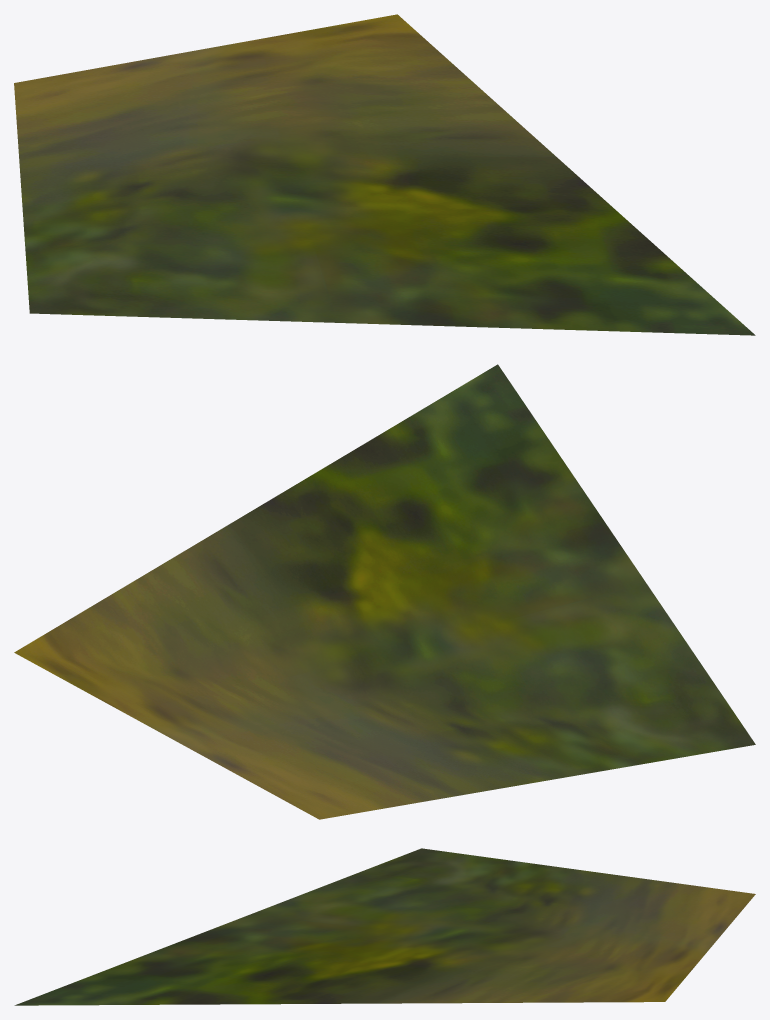
The model's file is Ridge_5_2_Top.gltf.
3 renders of one model, top to bottom at view 1: azimuth 30°, elevation 25°; view 2: azimuth 150°, elevation 25°; view 3: azimuth 270°, elevation 25°, orthographic. The views are drawn at different scales.
Parts seen in each view (by area): view 1: Ridge_5_2_Top; view 2: Ridge_5_2_Top; view 3: Ridge_5_2_Top.
Boxes of the visible parts, bbox=[...] form: Ridge_5_2_Top: bbox=[14, 14, 755, 335]; Ridge_5_2_Top: bbox=[14, 364, 755, 819]; Ridge_5_2_Top: bbox=[14, 848, 755, 1005].
Size of the model in its own units: 18.4 by 2.21 by 27.85.
1 material, 1 textured.
